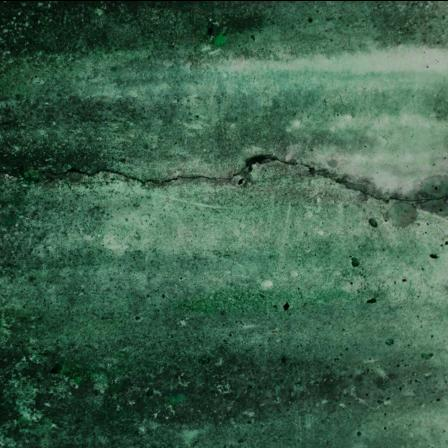crack: (1, 134, 448, 214)
